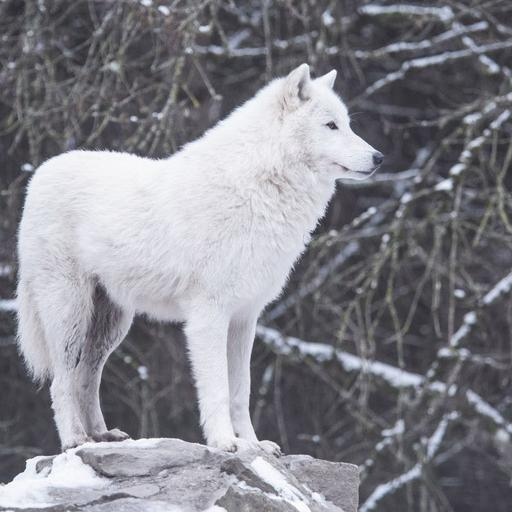Wolf: (4, 59, 390, 476)
